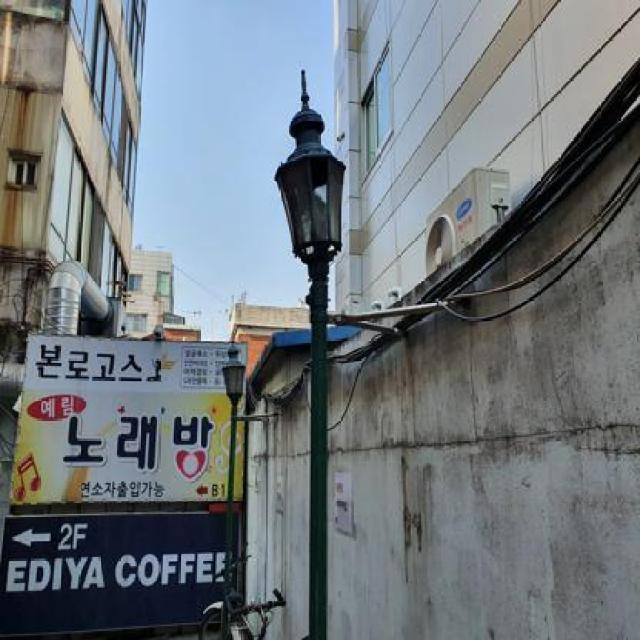pole: (262, 60, 360, 640)
